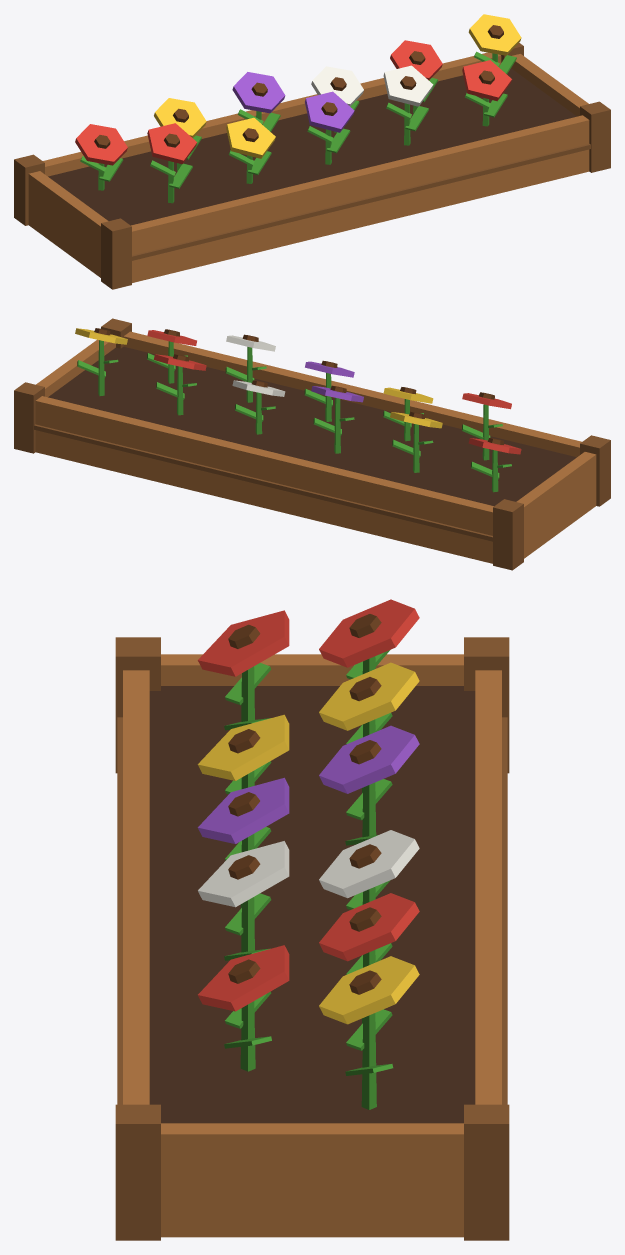
Rendered from flowerbed.glb.
3 renders of one model, top to bottom at view 1: azimuth 30°, elevation 25°; view 2: azimuth 150°, elevation 25°; view 3: azimuth 270°, elevation 25°, orthographic. The views are drawn at different scales.
Visible parts, largest first — view 1: planks, soil, flowers_red, posts, flowers_petal, leaves, seams, flowers_flower, flowers_white, centres, stems; view 2: planks, soil, posts, stems, seams, leaves, flowers_red, flowers_petal, centres, flowers_white, flowers_flower; view 3: soil, planks, posts, flowers_red, flowers_petal, flowers_white, flowers_flower, centres, leaves, stems, seams.
Part boxes in pixels (x1=…): planks: x1=28, y1=52, x2=589, y2=282; soil: x1=48, y1=68, x2=576, y2=225; flowers_red: x1=75, y1=40, x2=511, y2=165; posts: x1=14, y1=43, x2=610, y2=289; flowers_petal: x1=154, y1=14, x2=521, y2=158; leaves: x1=80, y1=51, x2=516, y2=188; seams: x1=132, y1=143, x2=590, y2=260; flowers_flower: x1=232, y1=72, x2=354, y2=132; flowers_white: x1=311, y1=65, x2=433, y2=106; centres: x1=94, y1=25, x2=503, y2=148; stems: x1=98, y1=53, x2=497, y2=203; planks: x1=35, y1=331, x2=596, y2=563; soil: x1=48, y1=346, x2=576, y2=506; posts: x1=14, y1=318, x2=610, y2=570; stems: x1=98, y1=340, x2=498, y2=492; seams: x1=34, y1=424, x2=492, y2=541; leaves: x1=77, y1=353, x2=511, y2=479; flowers_red: x1=147, y1=330, x2=521, y2=454; flowers_petal: x1=75, y1=328, x2=442, y2=428; centres: x1=94, y1=328, x2=503, y2=444; flowers_white: x1=226, y1=335, x2=285, y2=396; flowers_flower: x1=305, y1=361, x2=363, y2=402; soil: x1=149, y1=686, x2=475, y2=1123; planks: x1=123, y1=654, x2=501, y2=1237; posts: x1=115, y1=637, x2=509, y2=1240; flowers_red: x1=197, y1=599, x2=419, y2=1011; flowers_petal: x1=197, y1=662, x2=419, y2=1024; flowers_white: x1=198, y1=830, x2=419, y2=907; flowers_flower: x1=197, y1=725, x2=419, y2=843; centres: x1=228, y1=614, x2=381, y2=994; leaves: x1=224, y1=650, x2=393, y2=1075; stems: x1=240, y1=656, x2=376, y2=1109; seams: x1=117, y1=717, x2=507, y2=1104.
Bounding box in the file's own units: 3.04 × 0.6528 × 1.04.
